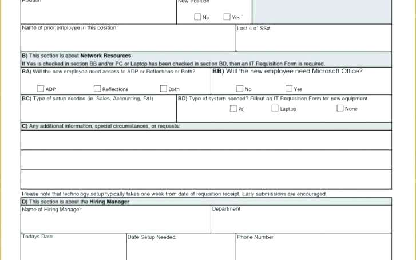checkbox: (284, 83, 294, 93), (93, 82, 102, 93), (228, 104, 239, 113), (36, 83, 45, 93), (270, 103, 279, 113), (335, 104, 345, 113), (193, 12, 202, 21), (223, 12, 232, 21), (159, 84, 168, 93), (235, 84, 244, 92)
textbox: (16, 145, 394, 172), (17, 127, 394, 153), (19, 166, 393, 192), (18, 21, 240, 54), (19, 204, 215, 236), (207, 203, 394, 236), (234, 21, 396, 55), (232, 228, 394, 260), (19, 93, 179, 124), (16, 1, 183, 28), (17, 229, 130, 260), (123, 229, 239, 259)
